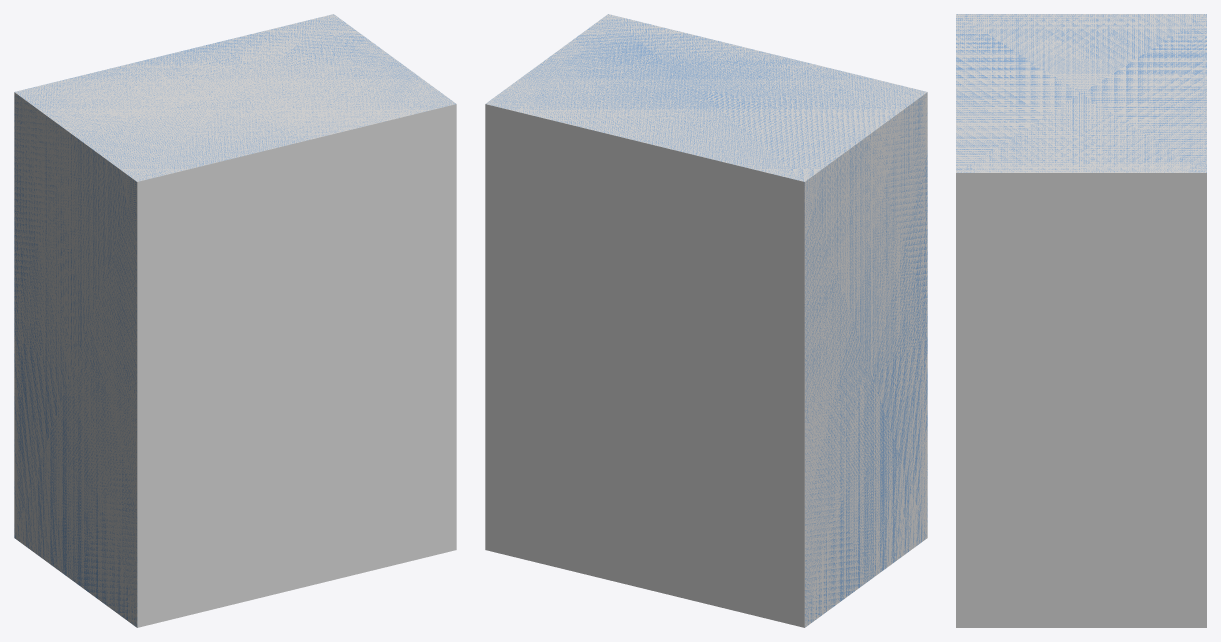
The model's file is axis-probe-processed-by-blender.glb.
3 renders of one model, left to right at view 1: azimuth 30°, elevation 25°; view 2: azimuth 150°, elevation 25°; view 3: azimuth 270°, elevation 25°, orthographic. The views are drawn at different scales.
Visible parts, largest first — view 1: COL_prop_energy_crate_01, SM_prop_energy_crate_01_LOD0; view 2: COL_prop_energy_crate_01, SM_prop_energy_crate_01_LOD0; view 3: COL_prop_energy_crate_01, SM_prop_energy_crate_01_LOD0.
Boxes of the visible parts, x1,y1,x2,y2 form: COL_prop_energy_crate_01: [14, 14, 456, 627]; SM_prop_energy_crate_01_LOD0: [14, 14, 455, 627]; COL_prop_energy_crate_01: [485, 14, 927, 627]; SM_prop_energy_crate_01_LOD0: [486, 14, 927, 626]; COL_prop_energy_crate_01: [956, 14, 1206, 627]; SM_prop_energy_crate_01_LOD0: [956, 14, 1206, 172].
Size of what is drawn, in the model's own units: 1.2 by 1.6 by 0.8.
